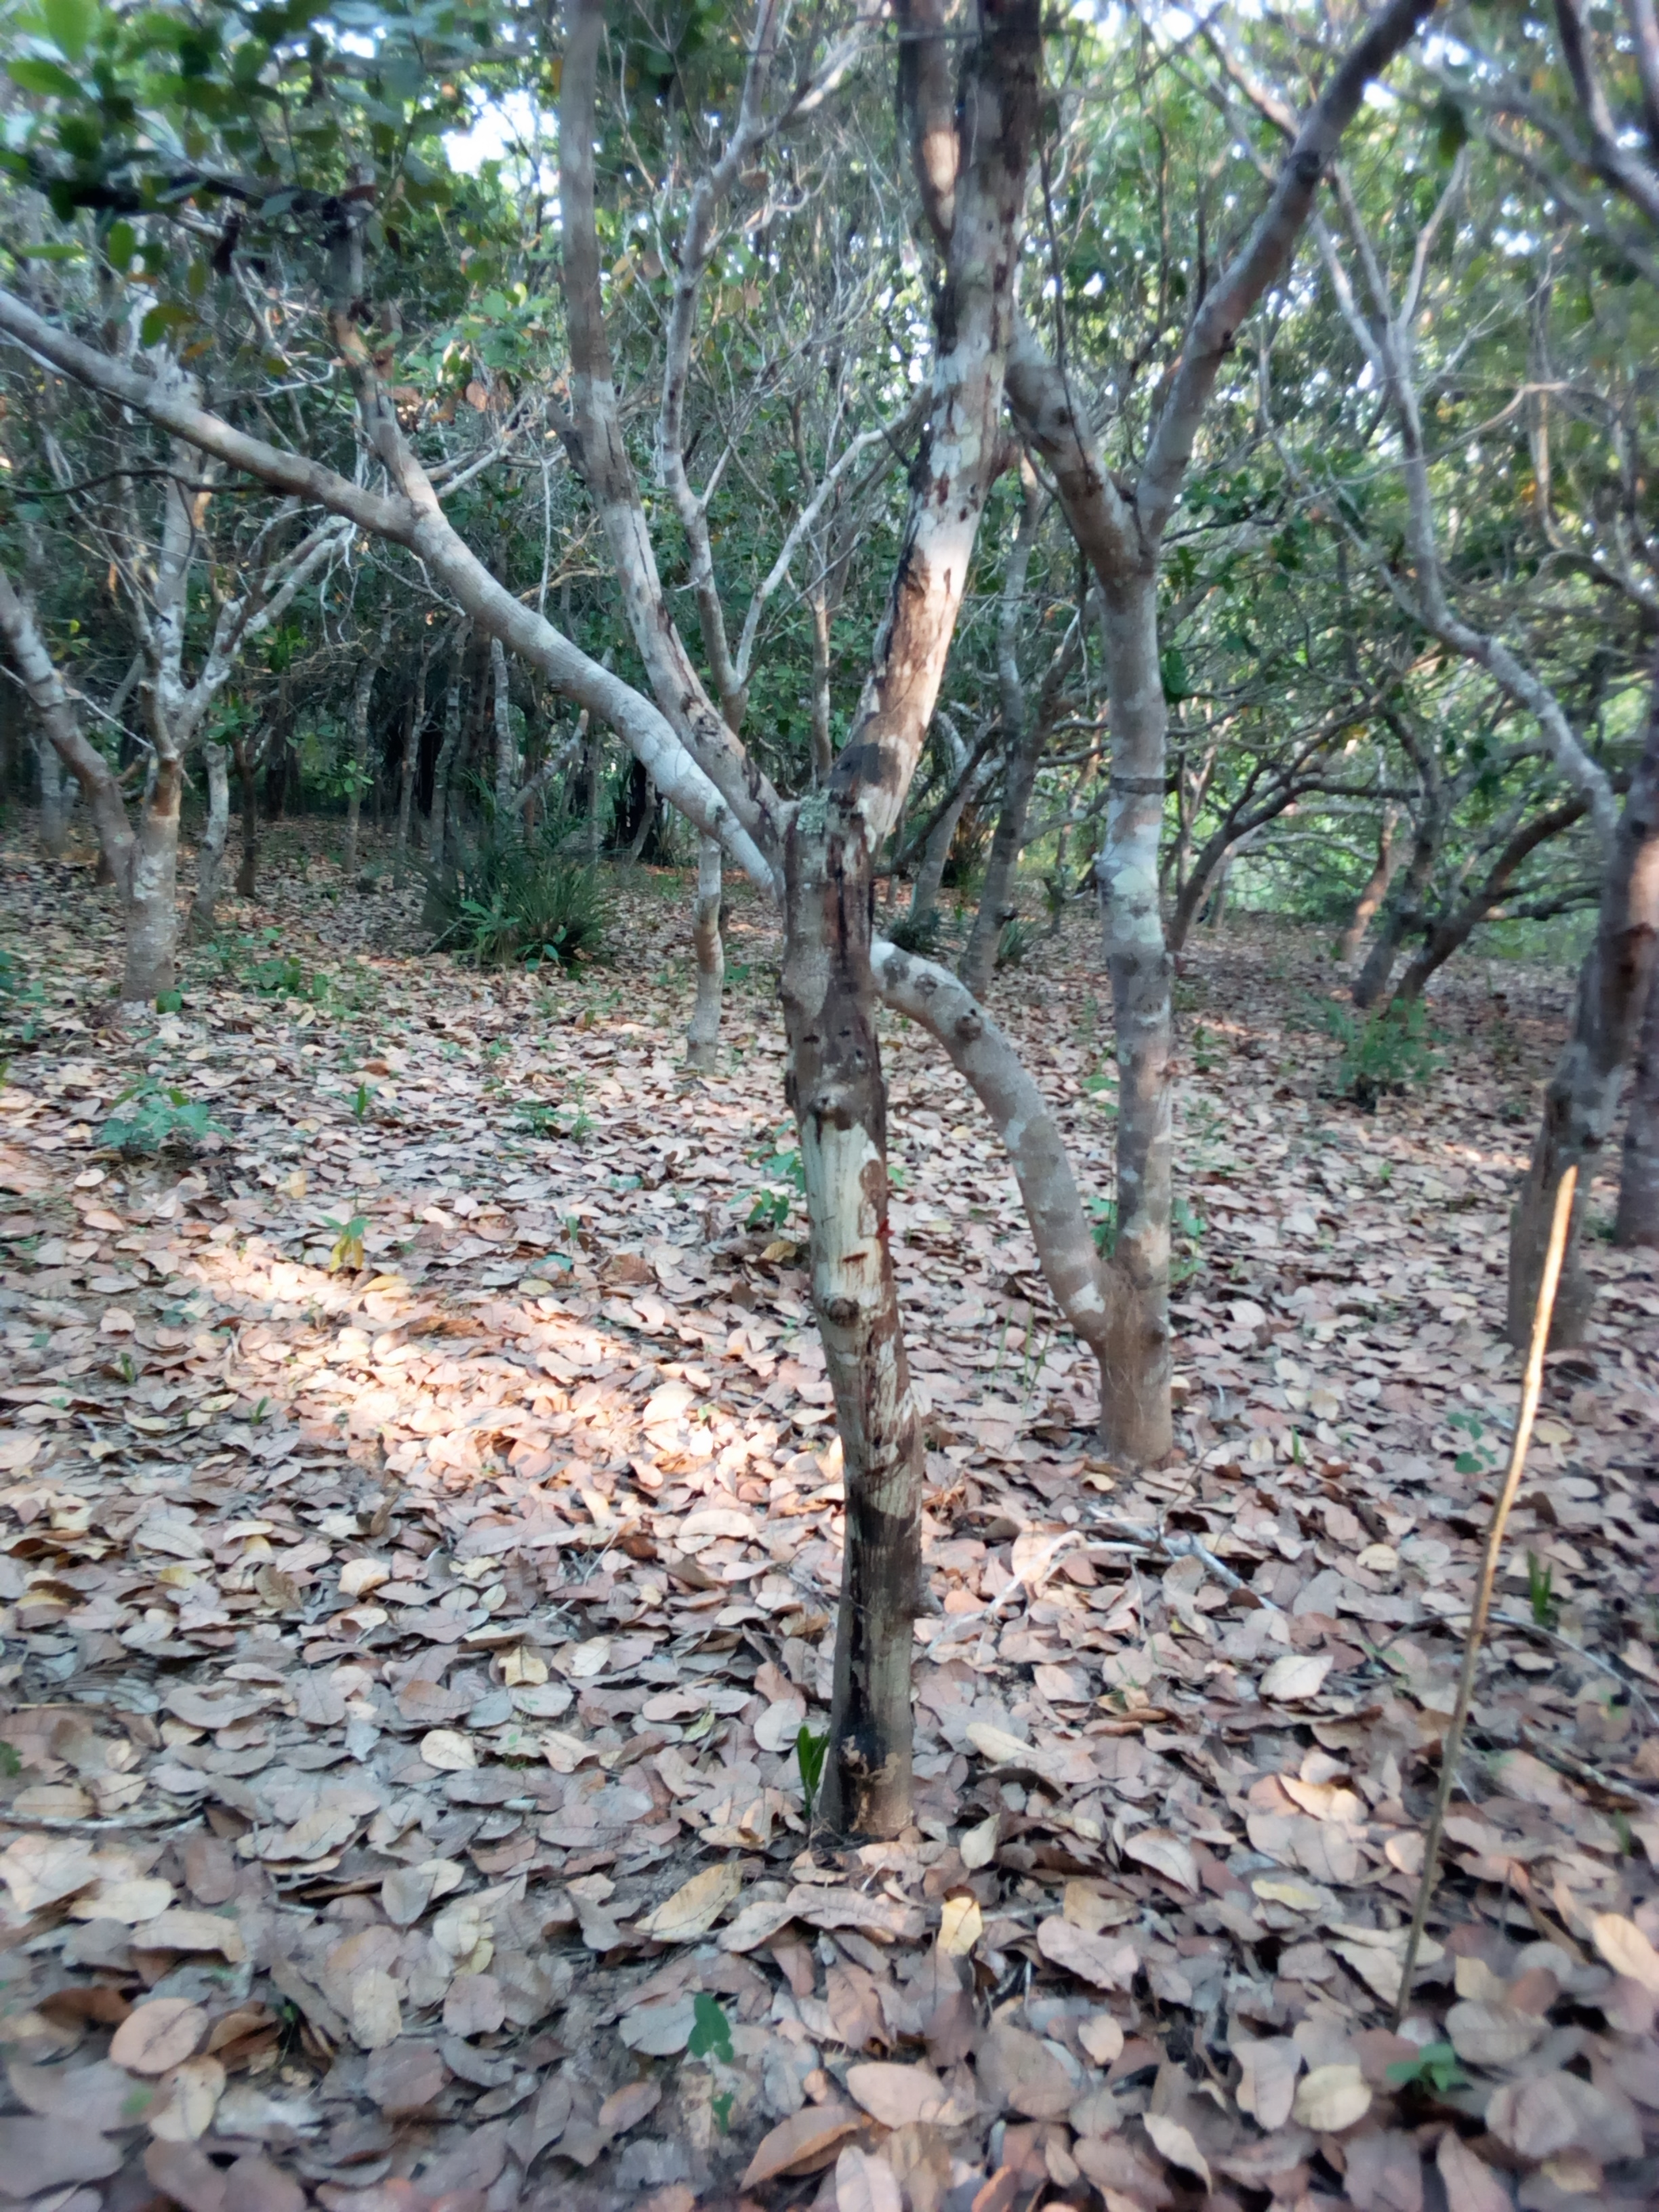Termites: (775, 784, 890, 1188)
